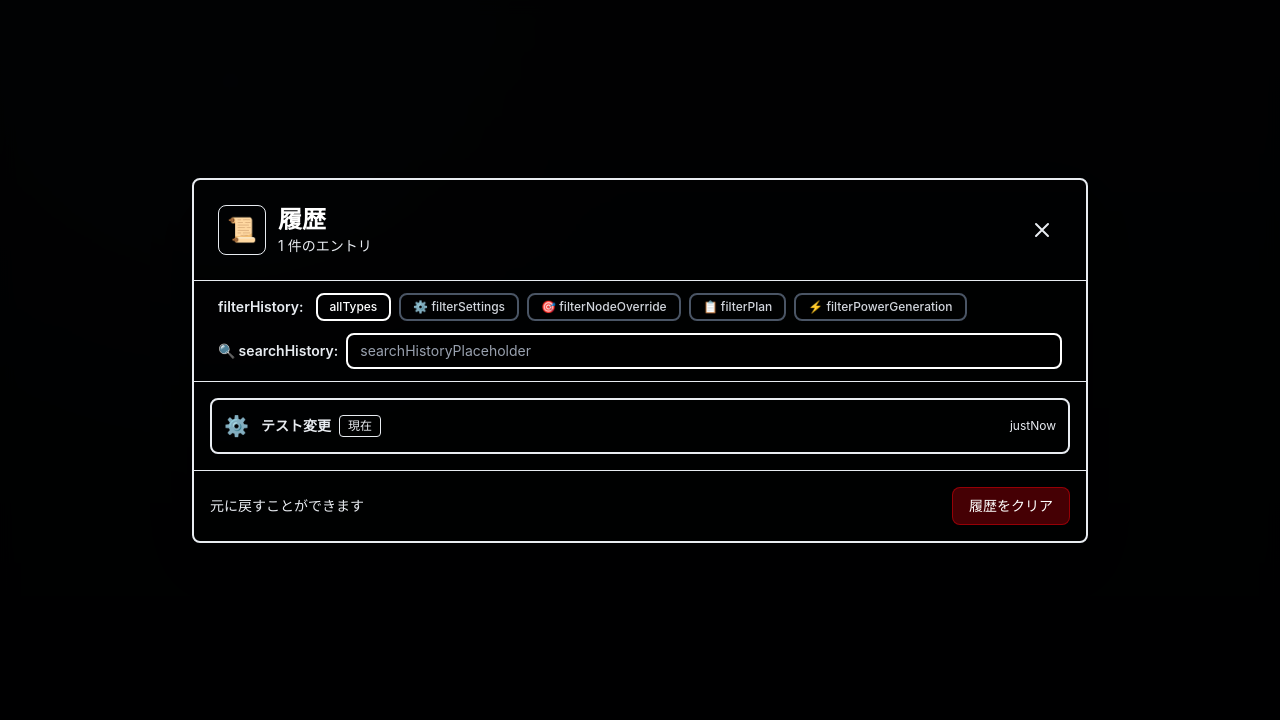
Test: HistoryDialog › Clear History › should clear history when clicking clear button
The image size is (1280, 720).
Click the button "履歴をクリア" at x=1011, y=506, box [952,486,1070,524]
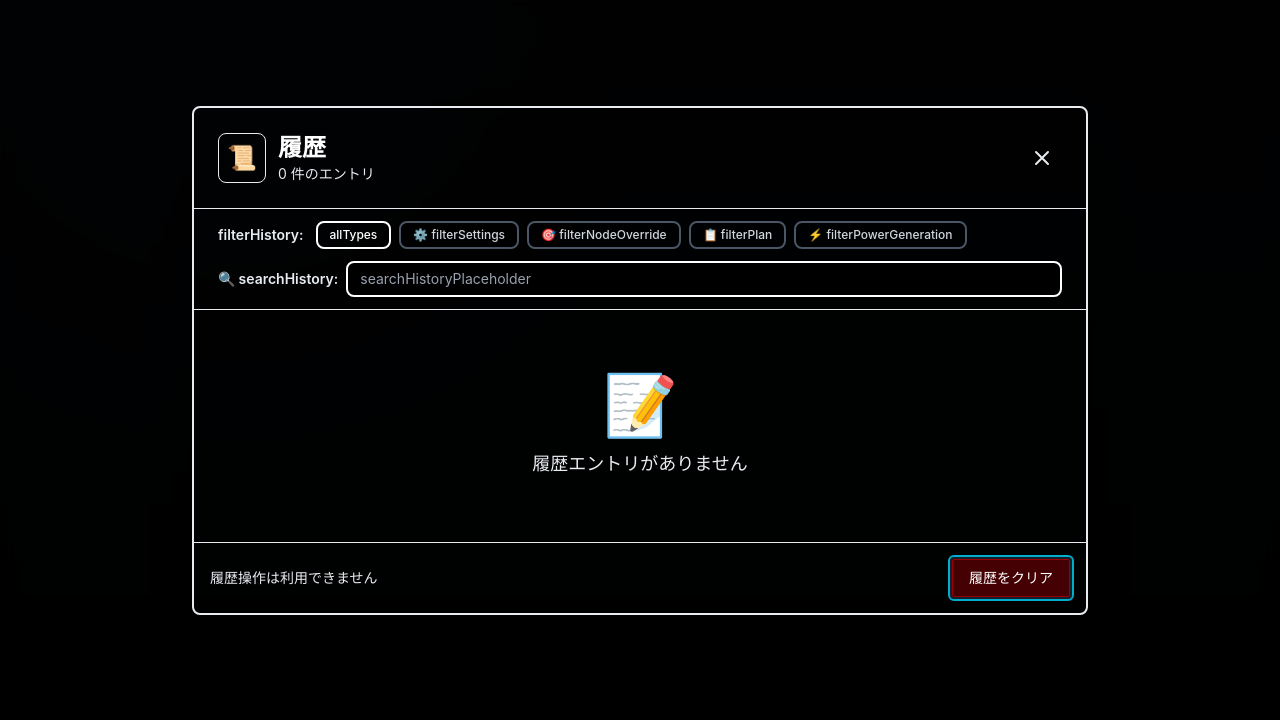
Expected: the text "履歴エントリがありません" is shown, [532,452,748,474]
